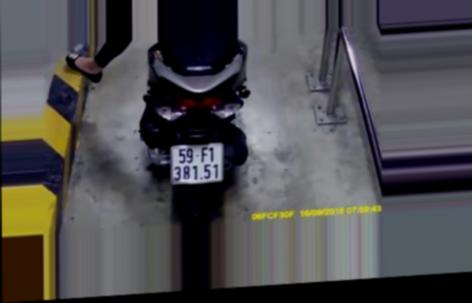License_Plate: (162, 135, 229, 189)
